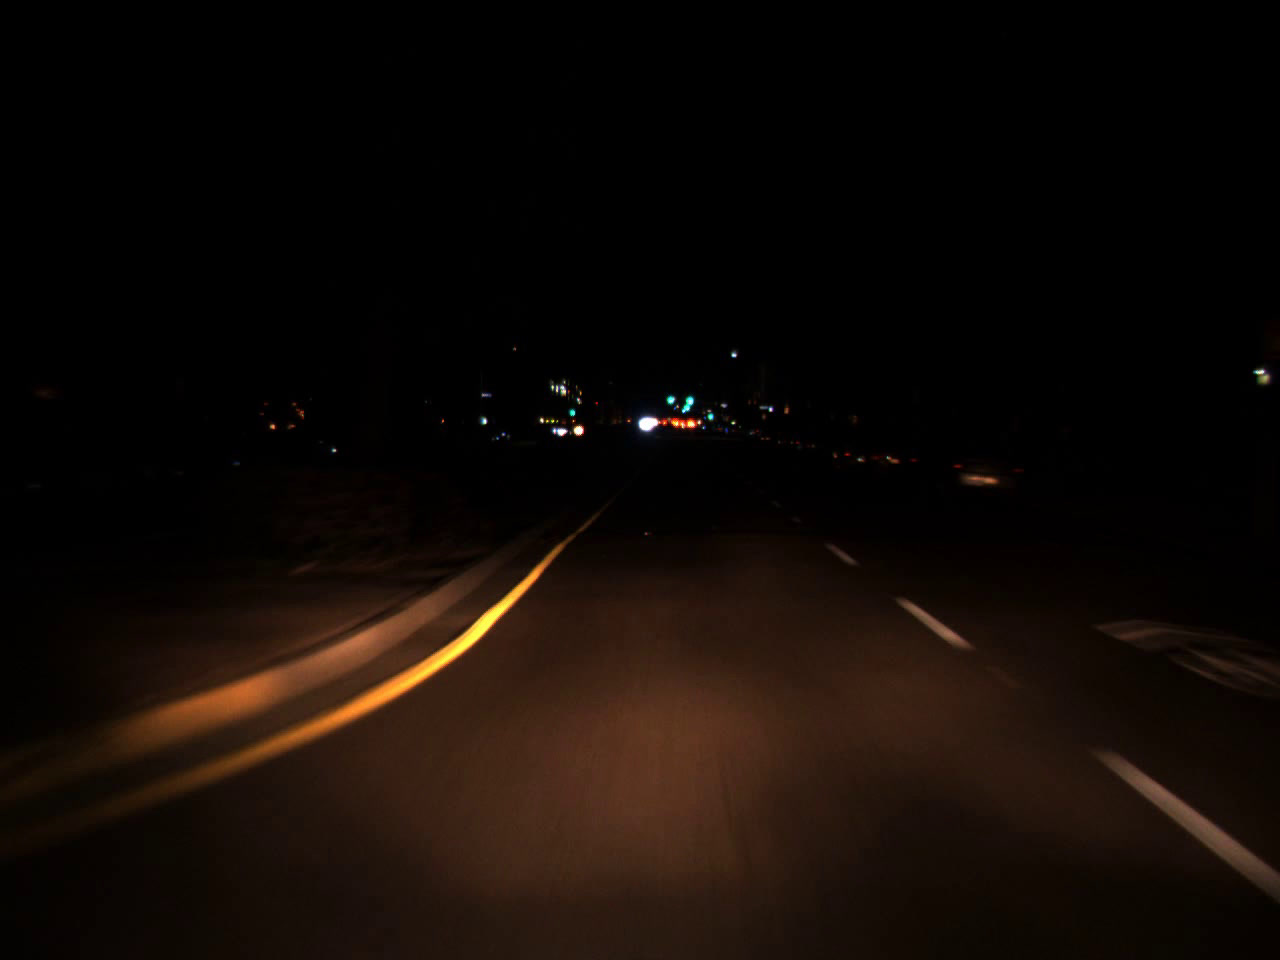go: (680, 386, 694, 410), (664, 388, 674, 406), (568, 401, 575, 419), (706, 409, 713, 421)
